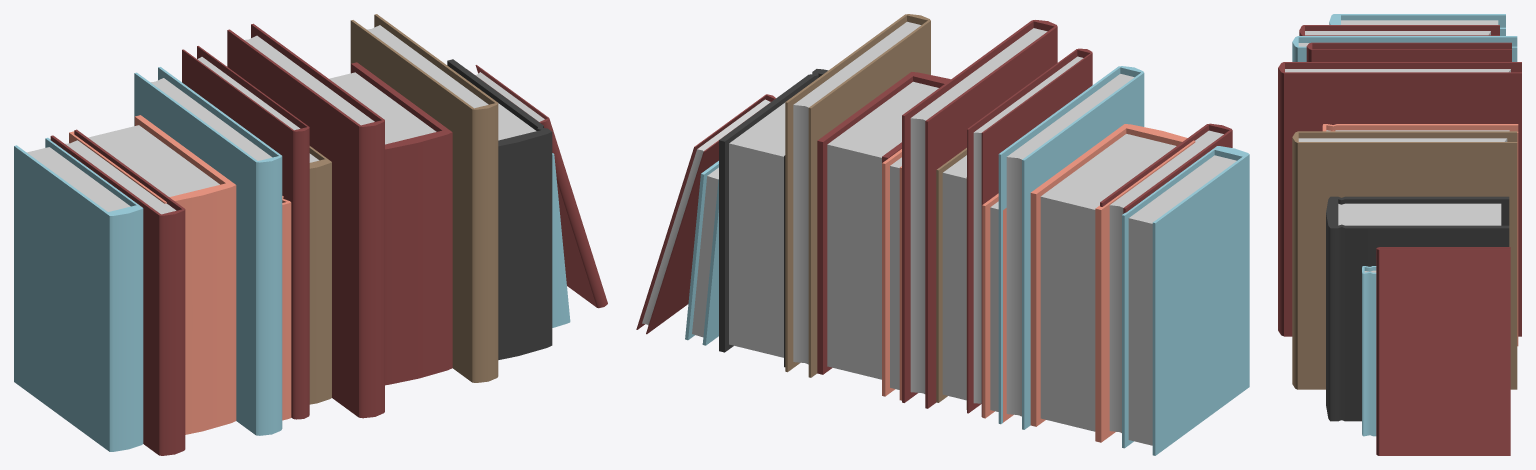
File: BooksGrp.fbx
3 renders of one model, left to right at view 1: azimuth 30°, elevation 25°; view 2: azimuth 150°, elevation 25°; view 3: azimuth 270°, elevation 25°, orthographic. The views are drawn at different scales.
Parts seen in each view (by area): view 1: shelved_Books; view 2: shelved_Books; view 3: shelved_Books.
Part boxes in pixels (bbox=[...]): shelved_Books: bbox=[14, 14, 607, 455]; shelved_Books: bbox=[636, 14, 1249, 455]; shelved_Books: bbox=[1278, 14, 1521, 455].
Size of the model in its own units: 154 by 81.65 by 68.55.
